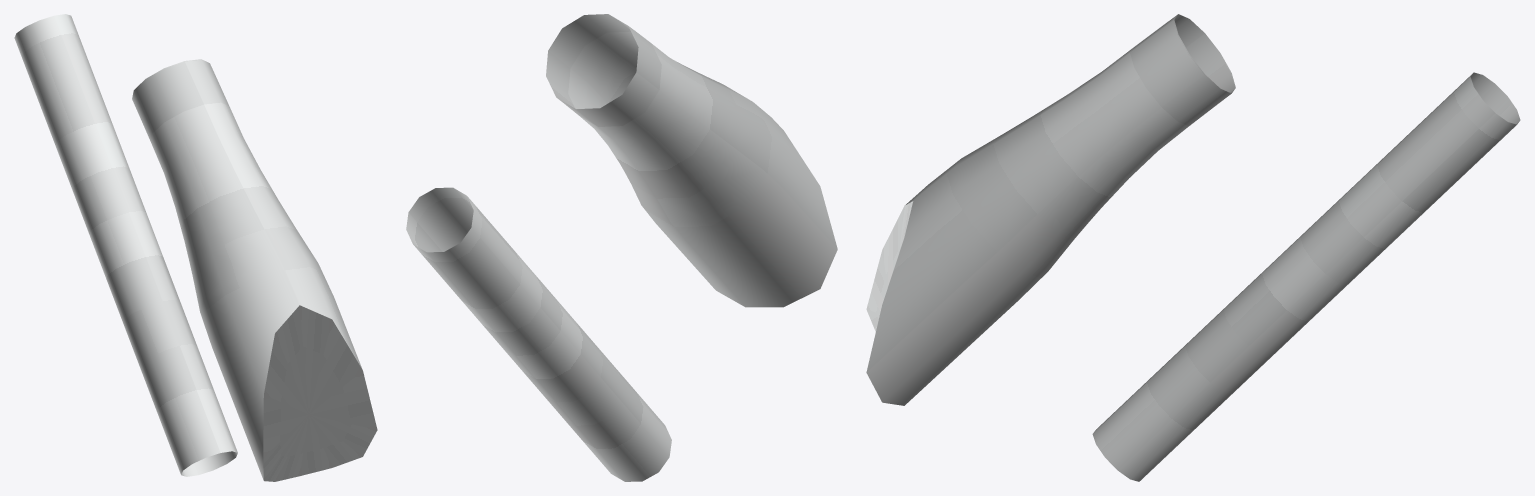
The model's file is luminairearm_truss8ft_c0_pedestal.obj.
3 views of the same model, side by side, from view 1: azimuth 30°, elevation 25°; view 2: azimuth 150°, elevation 25°; view 3: azimuth 270°, elevation 25° (orthographic). The views are drawn at different scales.
Visible parts, largest first — view 1: luminairearm_truss8ft_c0_pedestal; view 2: luminairearm_truss8ft_c0_pedestal; view 3: luminairearm_truss8ft_c0_pedestal.
Boxes of the visible parts, x1=… form: luminairearm_truss8ft_c0_pedestal: x1=14, y1=14, x2=377, y2=481; luminairearm_truss8ft_c0_pedestal: x1=406, y1=14, x2=837, y2=481; luminairearm_truss8ft_c0_pedestal: x1=866, y1=14, x2=1520, y2=481.
Size of the model in its own units: 0.3375 by 1.14 by 1.47.
